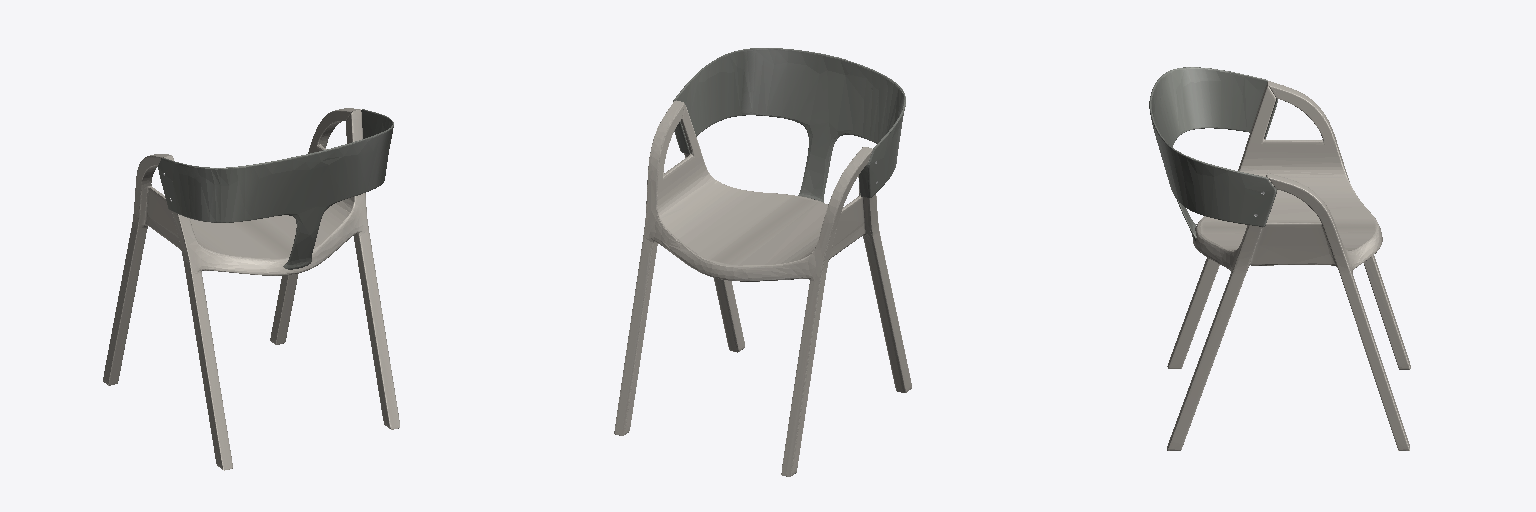
The picture shows the model from 3 angles: view 1: azimuth 30°, elevation 25°; view 2: azimuth 150°, elevation 25°; view 3: azimuth 270°, elevation 25°; orthographic projection.
Parts seen in each view (by area): view 1: solid_001_wire; view 2: solid_001_wire; view 3: solid_001_wire.
Boxes of the visible parts, <box> form: solid_001_wire: <box>103,108,399,470</box>; solid_001_wire: <box>614,48,911,476</box>; solid_001_wire: <box>1149,67,1410,450</box>.
Bounding box in the file's own units: 0.5367 × 0.7698 × 0.5991.
1 materials, 1 textured.